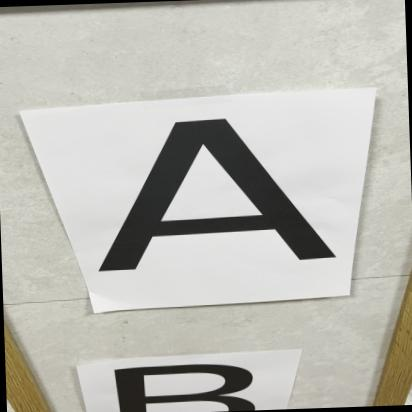seat: (71, 109, 354, 292)
